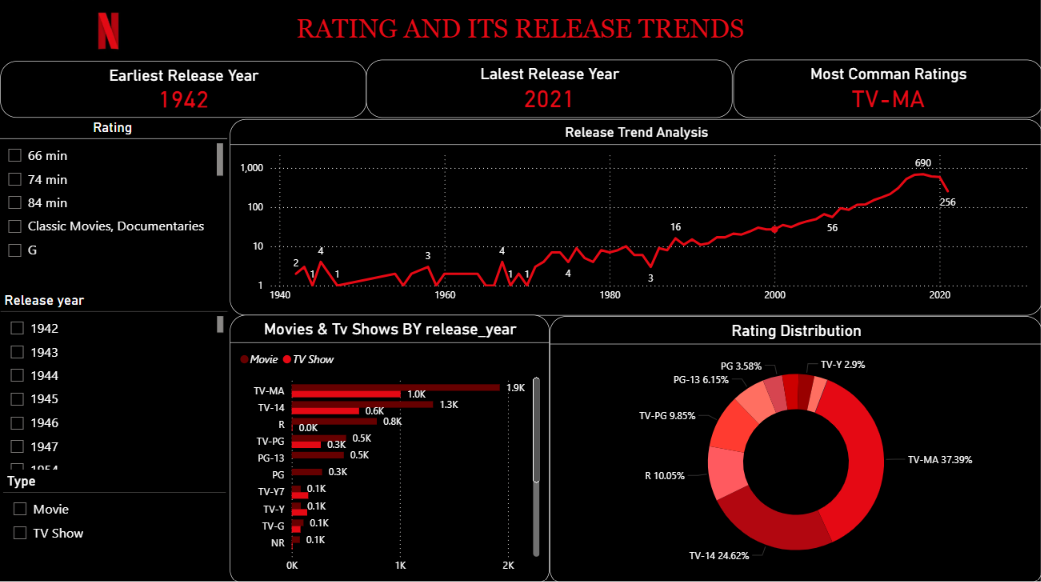

This screenshot's page, from the dashboard's own definition file:
{"tool":"powerbi","page":{"name":"RATING AND ITS RELEASE TRENDS","canvas":[1280,720],"ordinal":2},"visuals":[{"type":"textbox","box":[0,14.6,1280,67.5],"z":0},{"type":"card","title":"Earliest Release Year","fields":{"Values":["Min(netflix_titles.release_year)"]},"box":[3.6,78.4,448.5,69.3],"z":1000},{"type":"card","title":"Lalest Release Year","fields":{"Values":["Max(netflix_titles.release_year)"]},"box":[452.2,76.6,448.5,71.1],"z":2000},{"type":"card","title":"Most Comman Ratings","fields":{"Values":["netflix_titles.Most Common Rating"]},"box":[900.7,76.6,379.3,71.1],"z":3000},{"type":"lineChart","title":"Release Trend Analysis","fields":{"Y":["CountNonNull(netflix_titles.show_id)"],"Category":["netflix_titles.release_year"]},"box":[284.4,149.5,995.6,240.7],"z":4000},{"type":"donutChart","title":"Rating Distribution","fields":{"Y":["CountNonNull(netflix_titles.show_id)"],"Category":["netflix_titles.rating"]},"box":[676.5,390.2,603.5,330],"z":5000},{"type":"clusteredBarChart","title":"Movies & Tv Shows BY release_year","fields":{"Category":["netflix_titles.rating"],"Y":["CountNonNull(netflix_titles.show_id)"],"Series":["netflix_titles.type"]},"box":[285,388.3,391.7,331.7],"z":6000},{"type":"slicer","title":"Rating","fields":{"Values":["netflix_titles.rating"]},"box":[0,149,281.4,180.2],"z":7000},{"type":"slicer","title":"Release year","fields":{"Values":["netflix_titles.release_year"]},"box":[3.3,360,278.3,221.7],"z":8000},{"type":"slicer","title":"Type","fields":{"Values":["netflix_titles.type"]},"box":[6.7,581.7,273.3,118.3],"z":9000},{"type":"image","box":[3.7,0,263,77.2],"z":10000}]}

Visuals, with their boxes in screenshot pixels (x1, y1, x2, y2), scaled from the page's 1280x720 canvas onto the 1041x582 screenshot:
textbox: 0:12:1040:66
"Earliest Release Year" card: 3:63:368:119
"Lalest Release Year" card: 368:62:733:119
"Most Comman Ratings" card: 733:62:1040:119
"Release Trend Analysis" lineChart: 231:121:1040:315
"Rating Distribution" donutChart: 550:315:1040:581
"Movies & Tv Shows BY release_year" clusteredBarChart: 232:314:550:581
"Rating" slicer: 0:120:229:266
"Release year" slicer: 3:291:229:470
"Type" slicer: 5:470:228:566
image: 3:0:217:62
